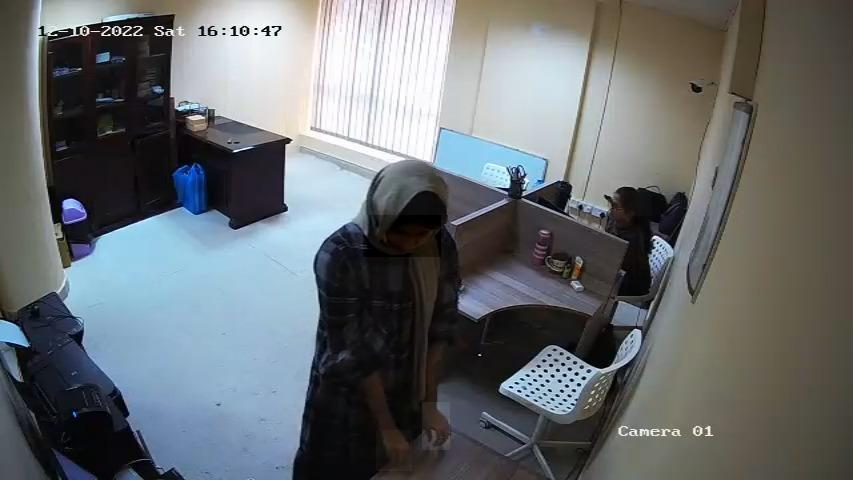no_apron: (376, 431, 412, 472), (423, 403, 451, 451)
no_gloves: (362, 163, 459, 215), (610, 180, 652, 216)
no_hairnet: (363, 214, 441, 257), (606, 192, 628, 224)
